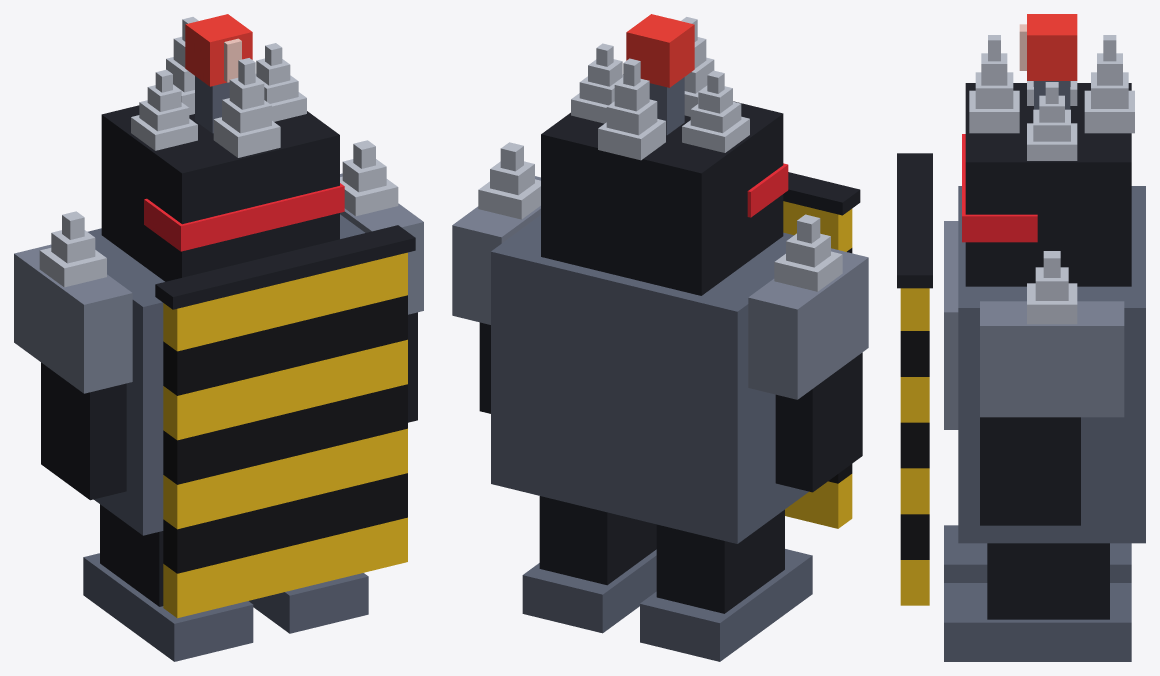
File: robot.obj
The picture shows the model from 3 angles, left to right: view 1: azimuth 30°, elevation 25°; view 2: azimuth 150°, elevation 25°; view 3: azimuth 270°, elevation 25°; orthographic projection. The views are drawn at different scales.
Visible parts, largest first — view 1: robot; view 2: robot; view 3: robot.
Boxes of the visible parts, x1=… form: robot: x1=14, y1=14, x2=423, y2=661; robot: x1=452, y1=14, x2=868, y2=661; robot: x1=897, y1=14, x2=1145, y2=661.
Bounding box in the file's own units: 0.56 × 0.9 × 0.345.
1 material, 1 textured.
